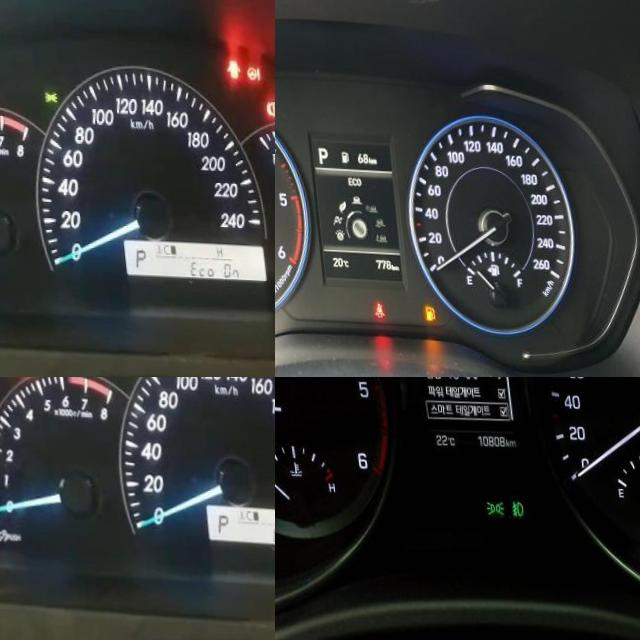Electronic Power Steering: (243, 61, 257, 77)
FrontFogLight: (500, 496, 516, 515)
Low fuel level: (415, 301, 427, 317)
SideLamp: (477, 497, 495, 512)
